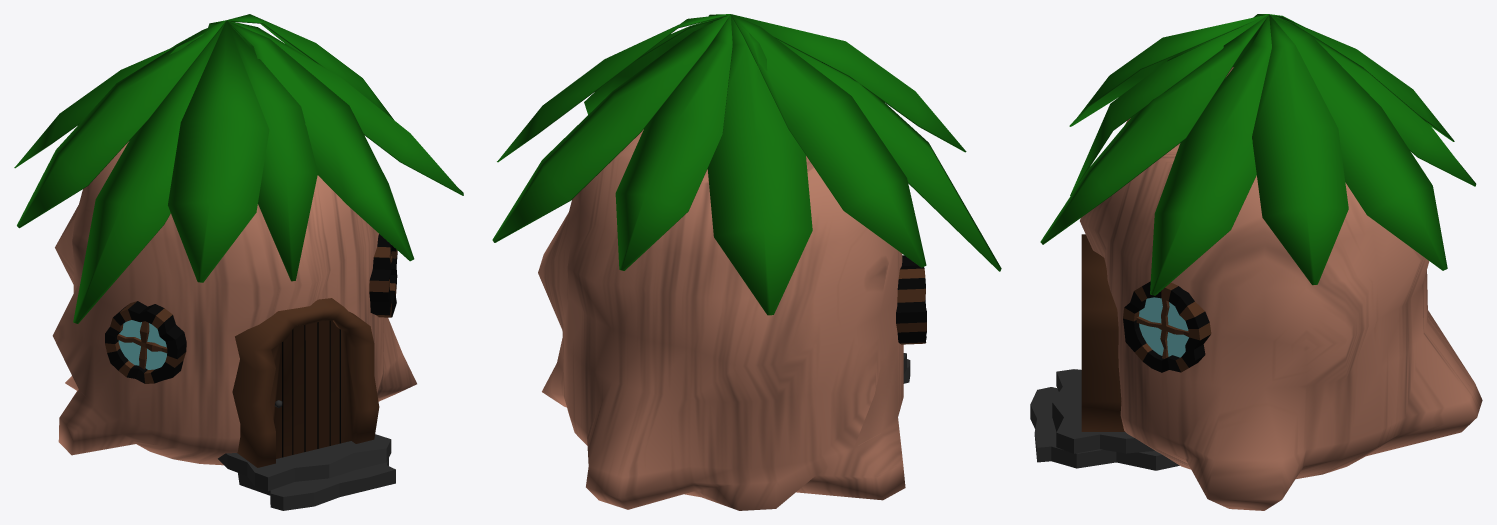
Rendered from Wood Chopper House.fbx.
3 views of the same model, side by side, from view 1: azimuth 30°, elevation 25°; view 2: azimuth 150°, elevation 25°; view 3: azimuth 270°, elevation 25° (orthographic). The views are drawn at different scales.
Visible parts, largest first — view 1: BaseHouse; view 2: BaseHouse; view 3: BaseHouse.
Boxes of the visible parts, box(x1,y1,x2,y2) form: BaseHouse: box(14, 14, 463, 510); BaseHouse: box(492, 14, 1001, 510); BaseHouse: box(1030, 14, 1482, 510).
Size of the model in its own units: 65.35 by 63.55 by 62.33.
5 materials, 1 textured.
